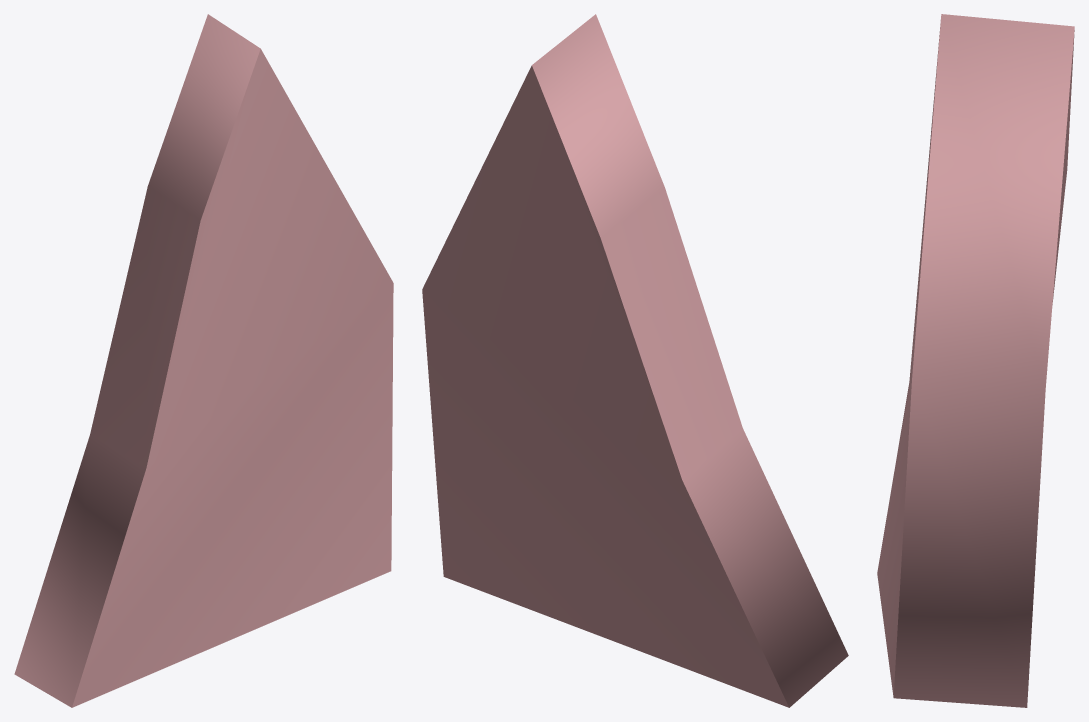
3 views of the same model, side by side, from view 1: azimuth 30°, elevation 25°; view 2: azimuth 150°, elevation 25°; view 3: azimuth 270°, elevation 25° (orthographic). The views are drawn at different scales.
Visible parts, largest first — view 1: ZA_03e8acf51943f944; view 2: ZA_03e8acf51943f944; view 3: ZA_03e8acf51943f944.
Boxes of the visible parts, bbox=[...] form: ZA_03e8acf51943f944: bbox=[14, 14, 393, 707]; ZA_03e8acf51943f944: bbox=[422, 14, 848, 707]; ZA_03e8acf51943f944: bbox=[877, 14, 1074, 707].
Bounding box in the file's own units: 0.0102 × 0.0171 × 0.00442.
